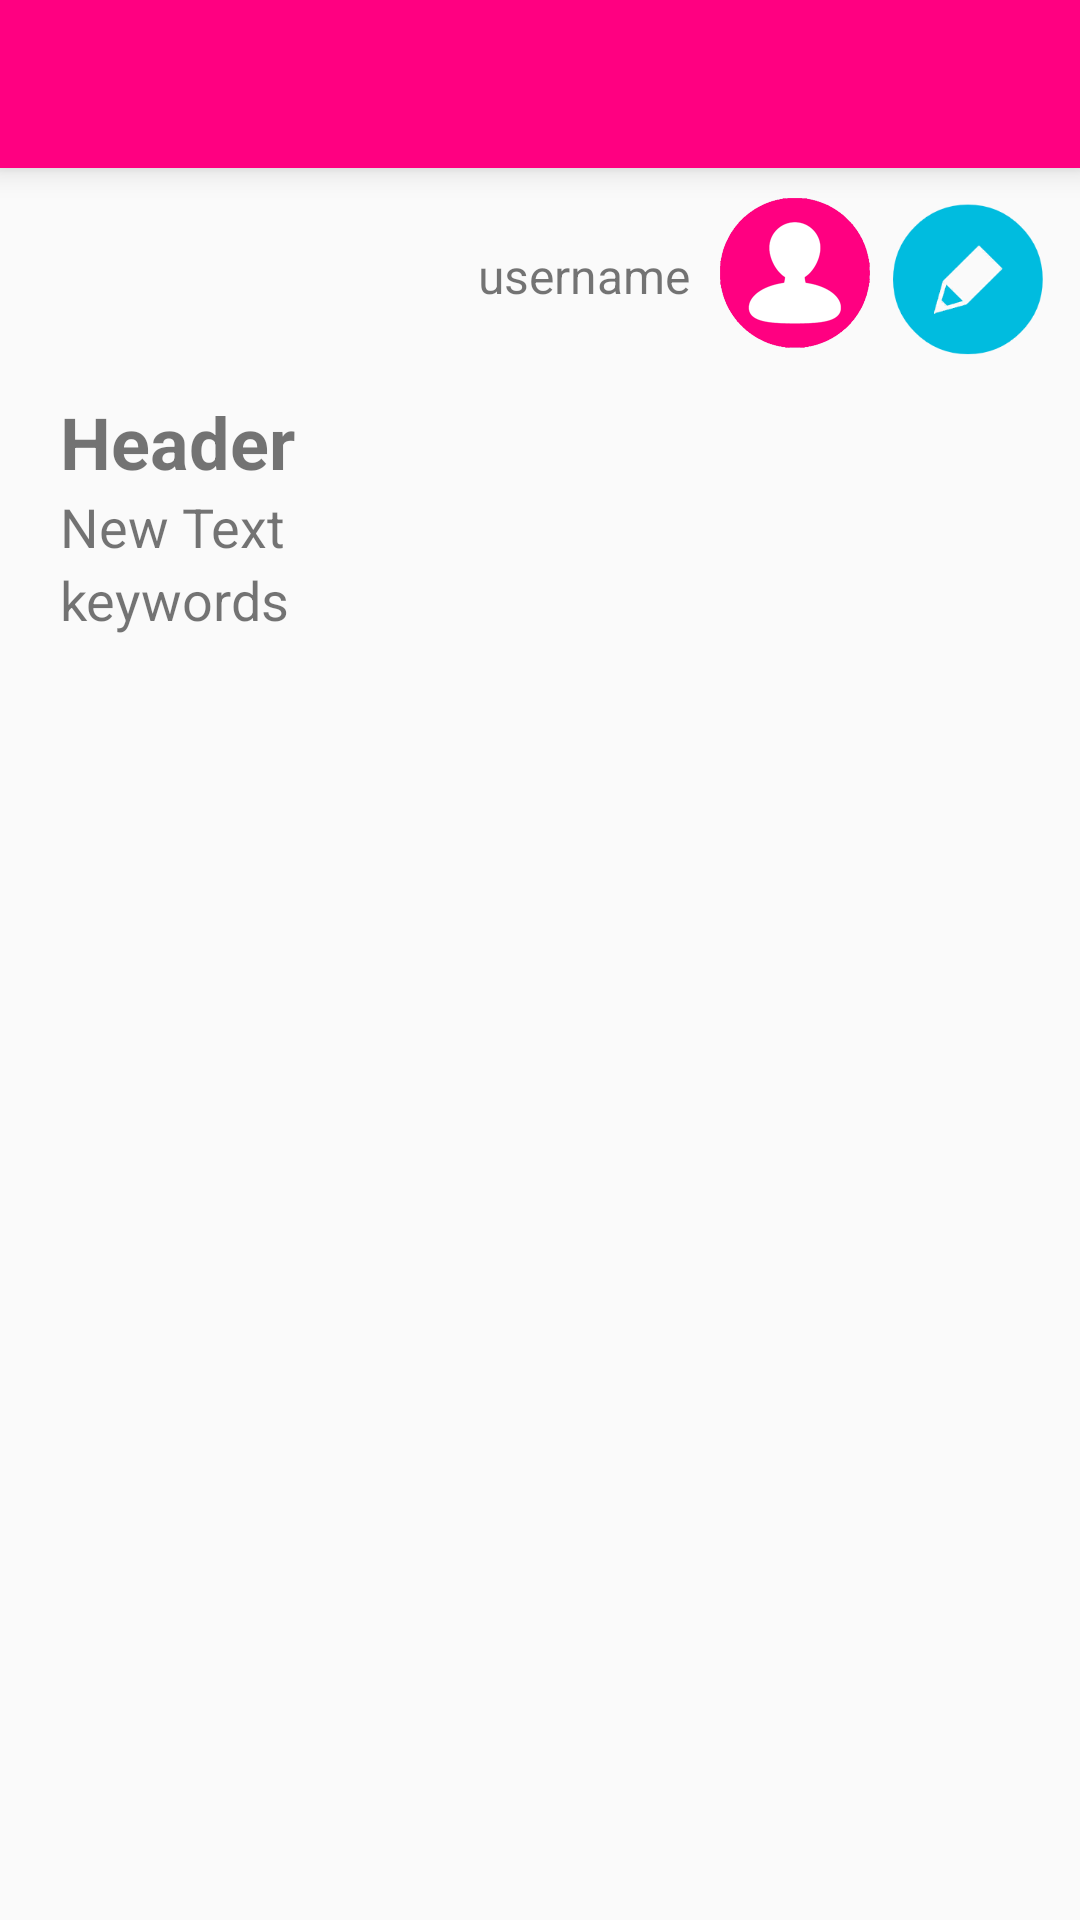

Named icons in this screenshot (1080 × 1920) and their bounding boxes, region(x1, y1, x2, y2):
edit: region(893, 204, 1043, 354)
